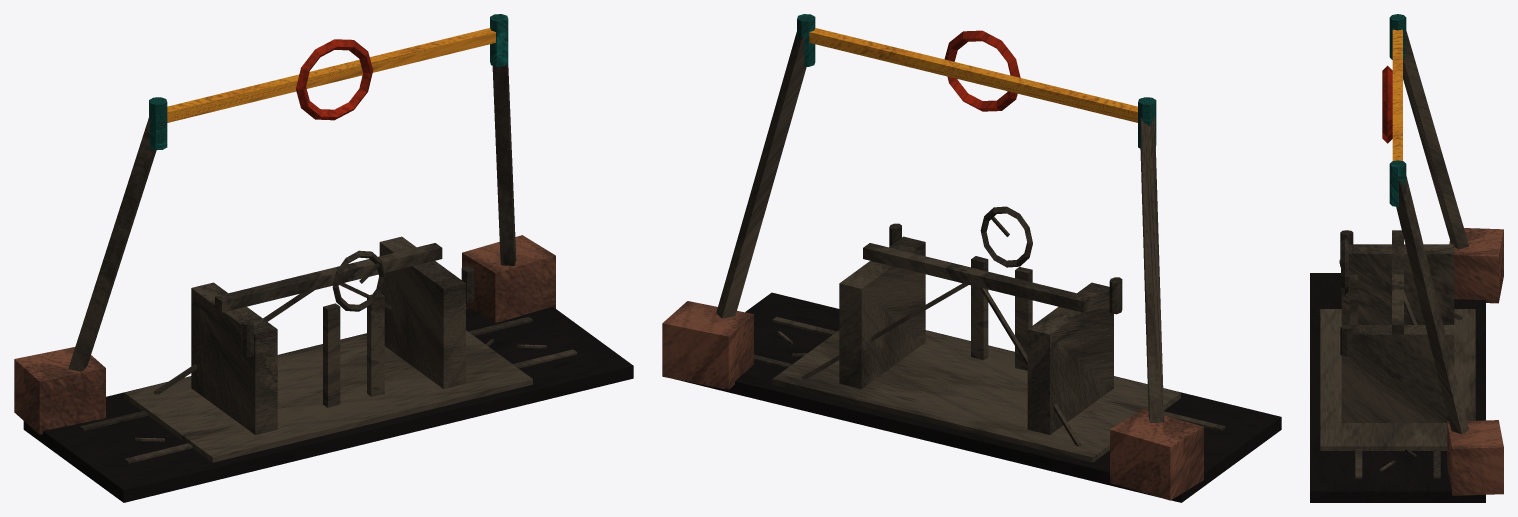
Rendered from south-anchor-gate.glb.
3 views of the same model, side by side, from view 1: azimuth 30°, elevation 25°; view 2: azimuth 150°, elevation 25°; view 3: azimuth 270°, elevation 25° (orthographic). The views are drawn at different scales.
Parts seen in each view (by area): view 1: south-anchor-gate; view 2: south-anchor-gate; view 3: south-anchor-gate.
Boxes of the visible parts, x1,y1,x2,y2 form: south-anchor-gate: (14,14,633,502); south-anchor-gate: (662,14,1281,502); south-anchor-gate: (1310,14,1503,502).
Size of the model in its own units: 10.13 by 6.92 by 3.75.
Materials: 1 (1 with a texture image).
